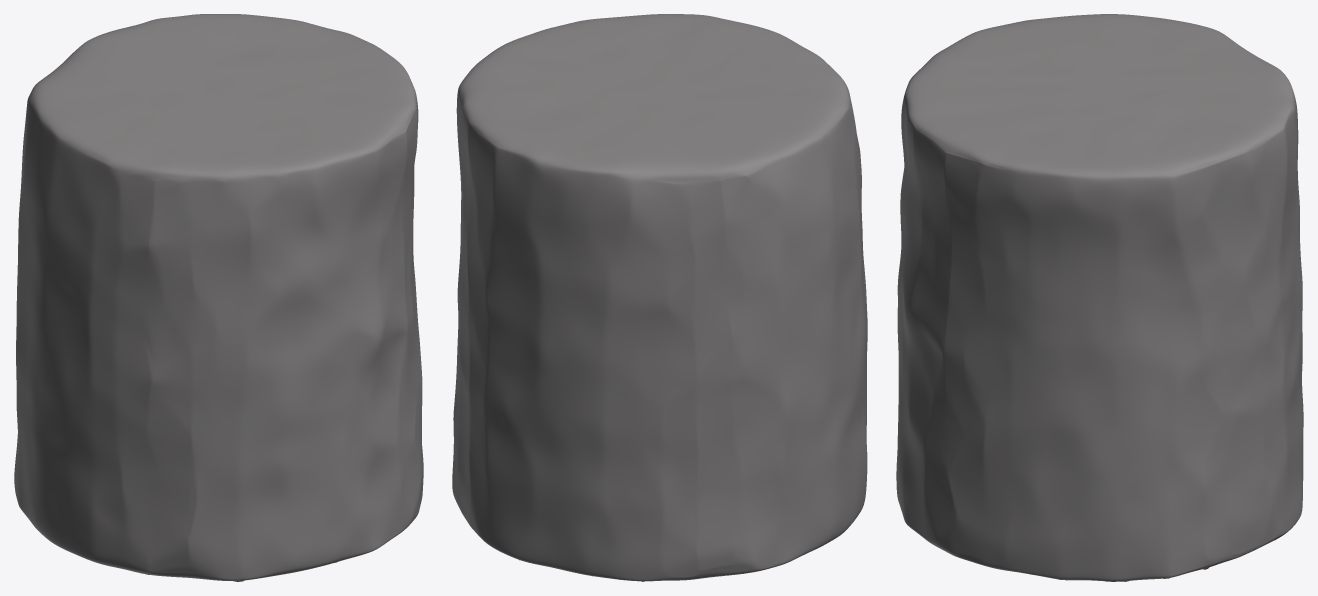
The model's file is Tronco.glb.
The picture shows the model from 3 angles, left to right: view 1: azimuth 30°, elevation 25°; view 2: azimuth 150°, elevation 25°; view 3: azimuth 270°, elevation 25°; orthographic projection.
Parts seen in each view (by area): view 1: Cube; view 2: Cube; view 3: Cube.
Part boxes in pixels (box(x1,y1,x2,y2)): Cube: box(14, 14, 423, 580); Cube: box(452, 14, 867, 581); Cube: box(896, 14, 1303, 581).
Bounding box in the file's own units: 1.81 × 1.98 × 1.77.
Materials: 2 (1 with a texture image).
